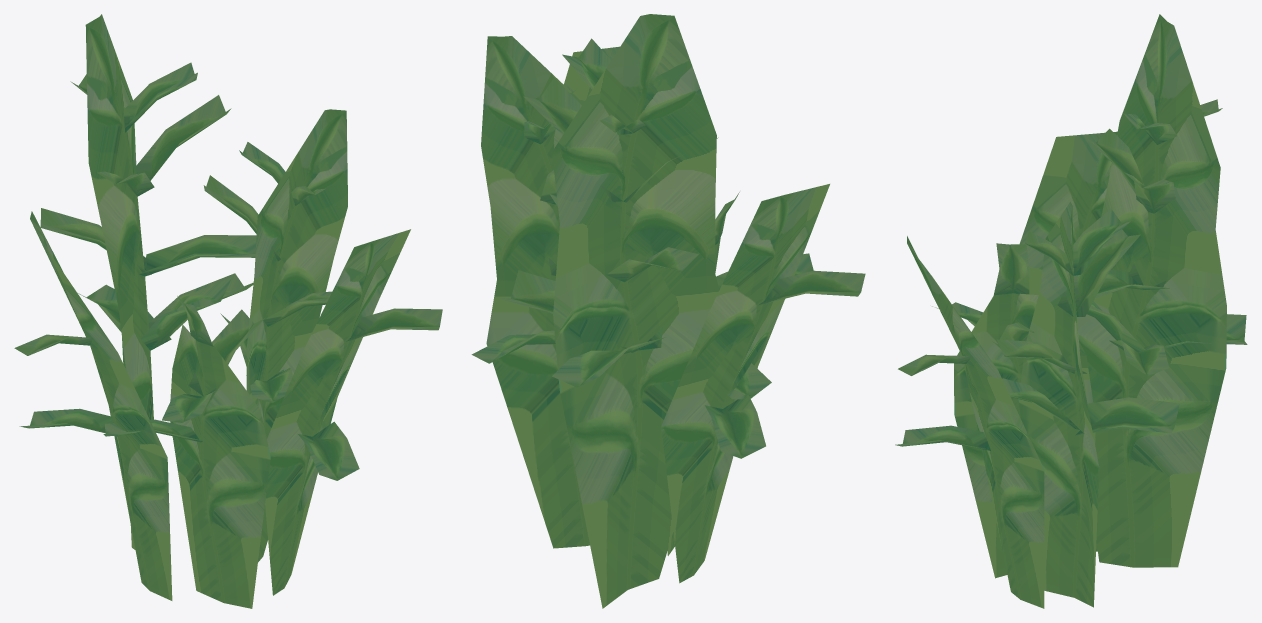
The model's file is SM_Plant_01_03.fbx.
3 renders of one model, left to right at view 1: azimuth 30°, elevation 25°; view 2: azimuth 150°, elevation 25°; view 3: azimuth 270°, elevation 25°, orthographic. The views are drawn at different scales.
Parts seen in each view (by area): view 1: SM_Plant_01_03_LOD0; view 2: SM_Plant_01_03_LOD0; view 3: SM_Plant_01_03_LOD0.
Boxes of the visible parts, x1,y1,x2,y2 form: SM_Plant_01_03_LOD0: (14, 14, 442, 608); SM_Plant_01_03_LOD0: (471, 14, 865, 608); SM_Plant_01_03_LOD0: (895, 14, 1247, 608).
Size of what is drawn, in the model's own units: 62 by 91.19 by 55.39.
